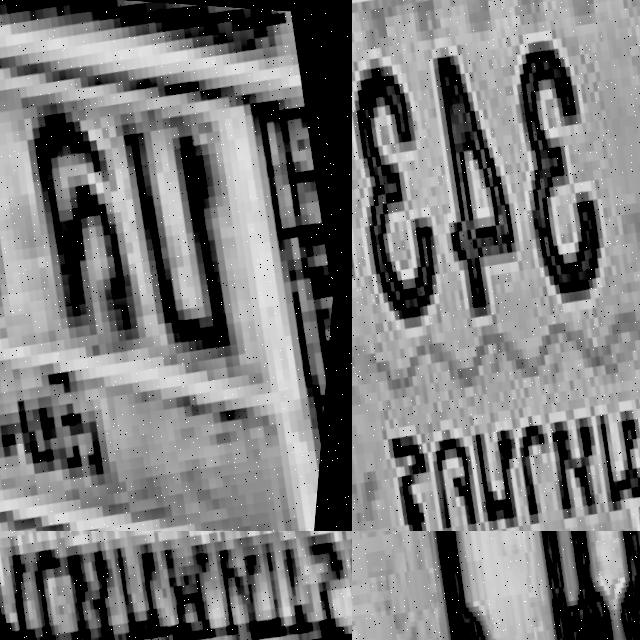license-plate: (0, 0, 352, 531), (352, 0, 640, 531), (0, 531, 352, 640), (352, 531, 640, 640)
